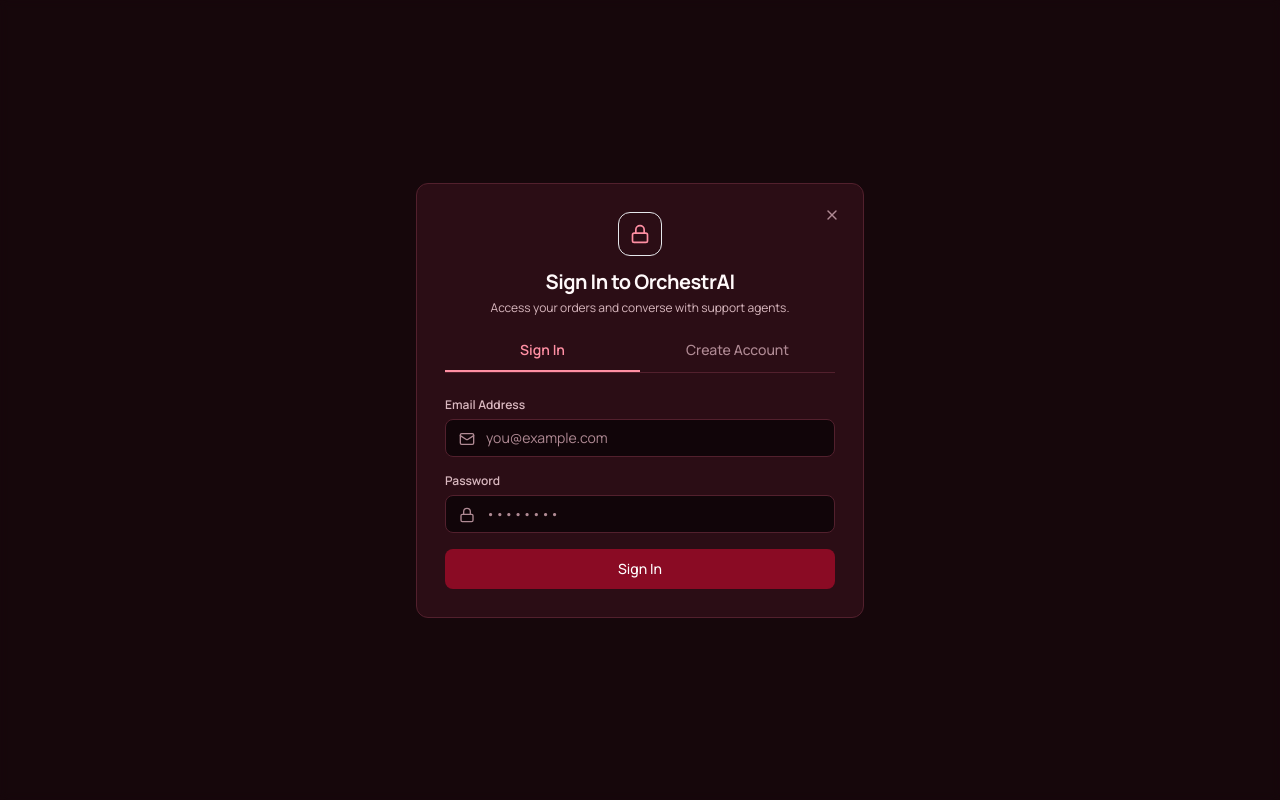
Test: AuthModal › switches between Sign In and Create Account tabs
The image size is (1280, 800).
Click the button with test id "tab-register".
click(738, 356)  # box [640,340,835,372]
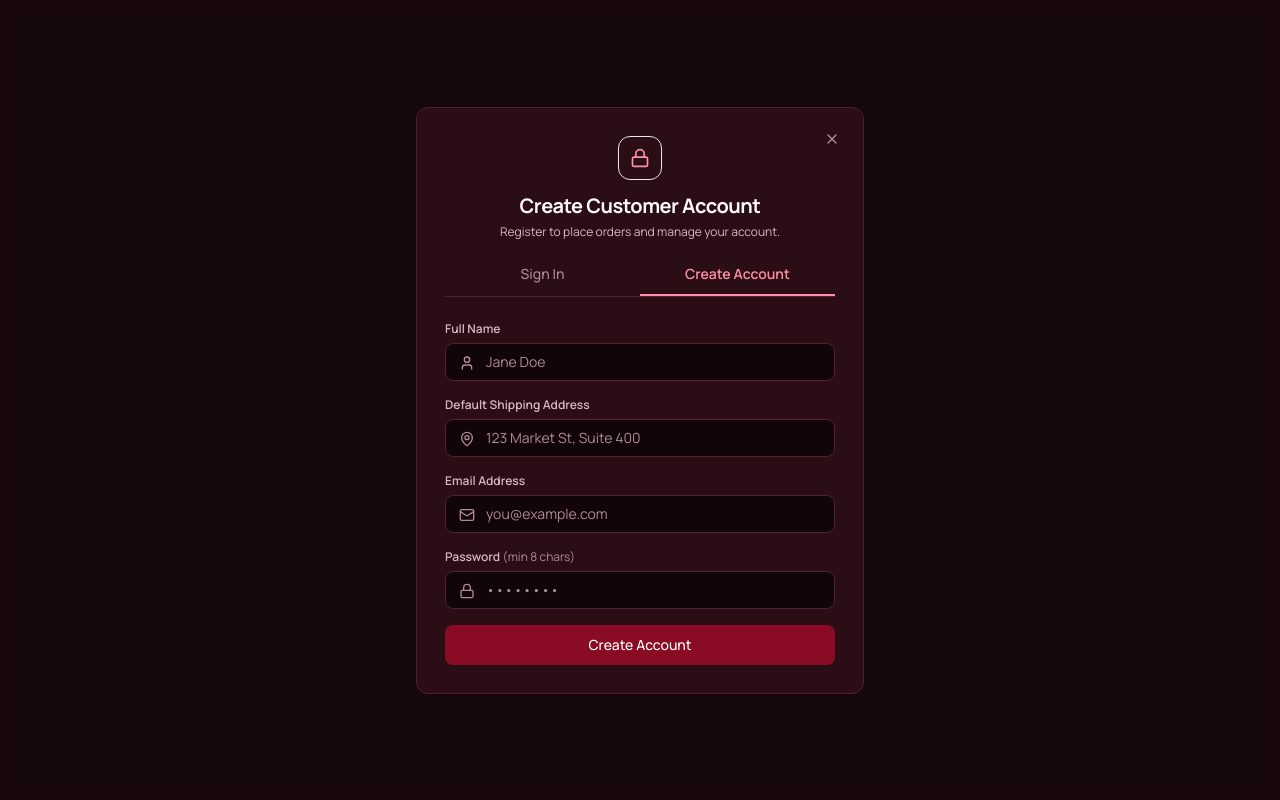
expect the heading "Create Customer Account" is shown: met, box [520,192,760,218]
expect the field with test id "auth-name-input" is shown: met, box [445,342,835,380]
expect the field with test id "auth-address-input" is shown: met, box [445,418,835,456]
Click the button with test id "tab-sign-in".
click(542, 280)  # box [445,264,640,296]
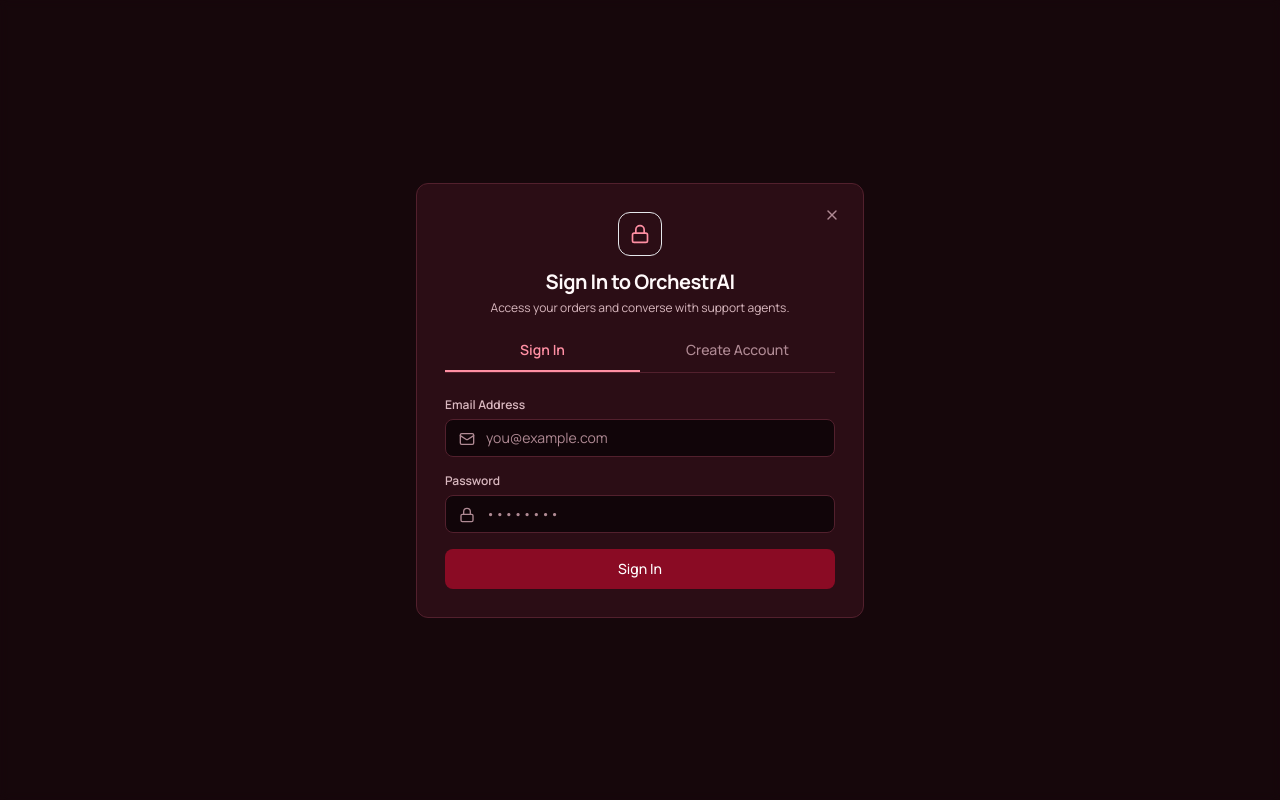
expect the heading "Sign In to OrchestrAI" is shown: met, box [546,268,734,294]
expect the field with test id "auth-name-input" is gone: met
